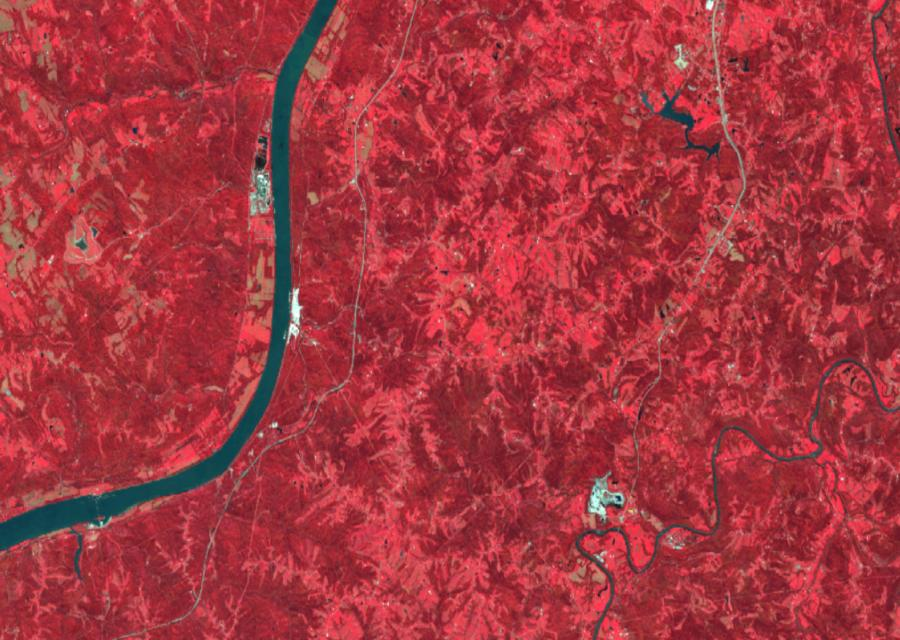Potential Lime Manufacturing Facility: (288, 290, 302, 351)
